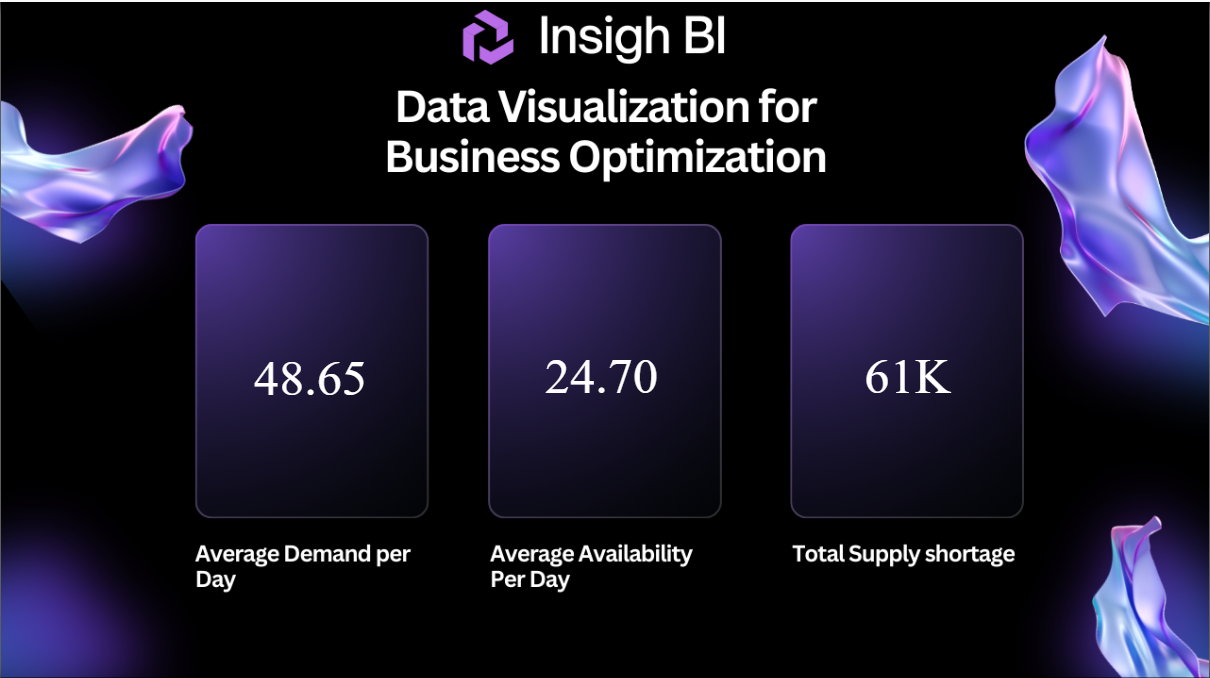

The dashboard page shown, as its layout file describes it:
{"tool":"powerbi","page":{"name":"Page 1","canvas":[1920,1080],"ordinal":0},"visuals":[{"type":"cardVisual","fields":{"Data":["Measures Table.Average Demand per day"]},"box":[386.8,300,463.2,594.7],"z":0},{"type":"cardVisual","fields":{"Data":["Measures Table.Average Availability per day"]},"box":[850,421.1,221.1,352.6],"z":1},{"type":"cardVisual","fields":{"Data":["Measures Table.Supply Shortage"]},"box":[1357.9,421.1,221.1,352.6],"z":2}]}

Visuals, with their boxes in screenshot pixels (x1, y1, x2, y2), scaled from the page's 1920x1080 canvas onto the 1210x678 screenshot:
cardVisual - Measures Table.Average Demand per day: x1=244 y1=188 x2=536 y2=562
cardVisual - Measures Table.Average Availability per day: x1=536 y1=264 x2=675 y2=486
cardVisual - Measures Table.Supply Shortage: x1=856 y1=264 x2=995 y2=486
